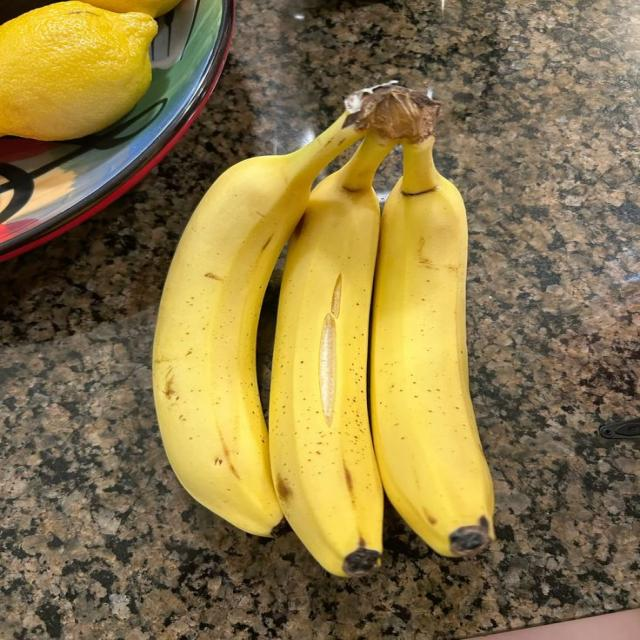lemon: (0, 0, 157, 140)
unpeal banana: (154, 113, 364, 536), (270, 136, 393, 576), (371, 135, 493, 556)
